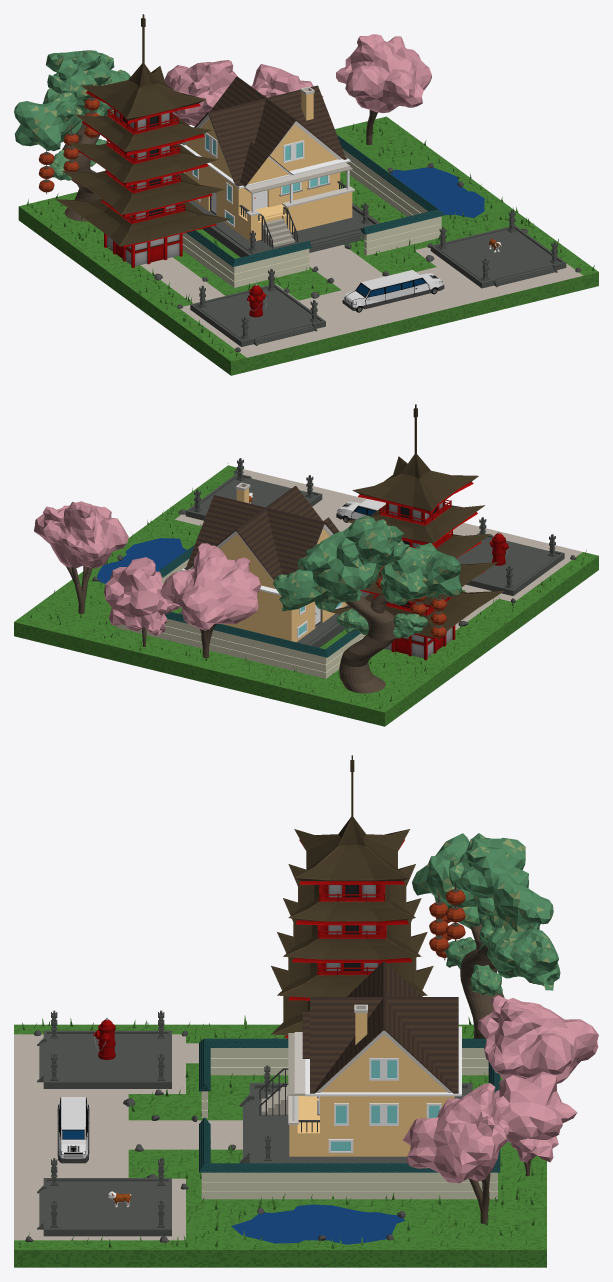
3 views of the same model, one above another, from view 1: azimuth 30°, elevation 25°; view 2: azimuth 150°, elevation 25°; view 3: azimuth 270°, elevation 25° (orthographic). The views are drawn at different scales.
Parts seen in each view (by area): view 1: Cube.005, Cube.235, VEHICLES_LIMOUSINE; view 2: Cube.005, Cube.235, VEHICLES_LIMOUSINE, OBJRANDOM_FIRE_HYDRANT; view 3: Cube.005, Cube.235, VEHICLES_LIMOUSINE, OBJRANDOM_FIRE_HYDRANT.
Part boxes in pixels (x1=…): Cube.005: x1=14, y1=14, x2=598, y2=375; Cube.235: x1=179, y1=76, x2=354, y2=248; VEHICLES_LIMOUSINE: x1=342, y1=270, x2=444, y2=312; Cube.005: x1=14, y1=404, x2=598, y2=726; Cube.235: x1=181, y1=482, x2=347, y2=642; VEHICLES_LIMOUSINE: x1=336, y1=499, x2=385, y2=522; OBJRANDOM_FIRE_HYDRANT: x1=489, y1=532, x2=509, y2=565; Cube.005: x1=14, y1=755, x2=598, y2=1267; Cube.235: x1=259, y1=961, x2=461, y2=1156; VEHICLES_LIMOUSINE: x1=57, y1=1097, x2=89, y2=1163; OBJRANDOM_FIRE_HYDRANT: x1=93, y1=1018, x2=115, y2=1059.
Bounding box in the file's own units: 4528 × 2693 × 4389.
Materials: 43 (5 with a texture image).
